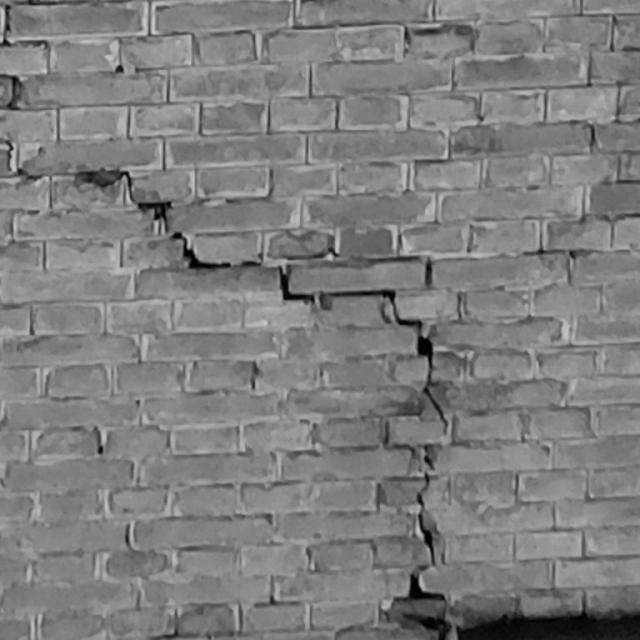crack: (6, 141, 450, 638)
